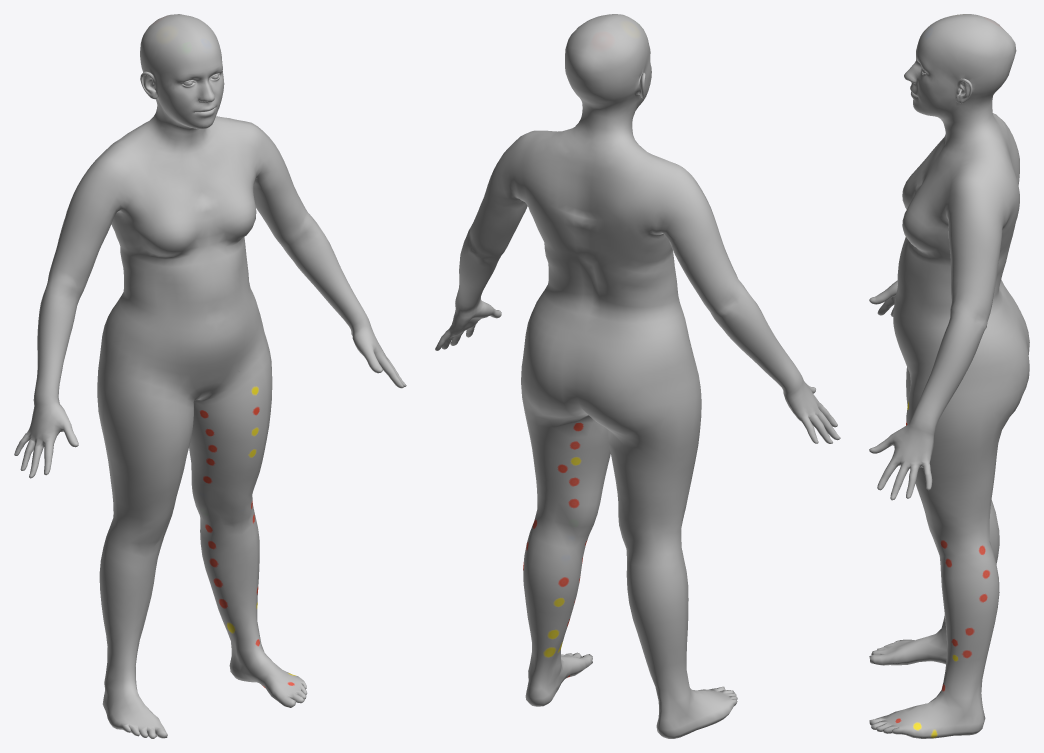
Rendered from 1135039-supine-red+yellow.gltf.
3 renders of one model, left to right at view 1: azimuth 30°, elevation 25°; view 2: azimuth 150°, elevation 25°; view 3: azimuth 270°, elevation 25°, orthographic. The views are drawn at different scales.
Parts seen in each view (by area): view 1: Female 60in 130lbs; view 2: Female 60in 130lbs; view 3: Female 60in 130lbs.
Part boxes in pixels (left/top/right/bottom): Female 60in 130lbs: left=14, top=14, right=406, bottom=738; Female 60in 130lbs: left=435, top=14, right=840, bottom=738; Female 60in 130lbs: left=869, top=14, right=1029, bottom=738.
Bounding box in the file's own units: 2.68 × 4.58 × 0.9768.
Materials: 1 (1 with a texture image).
